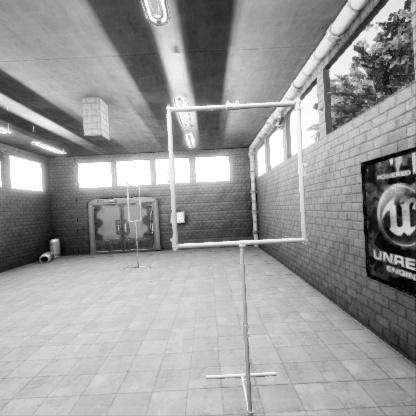gate: (162, 172, 314, 323), (125, 194, 140, 234)
